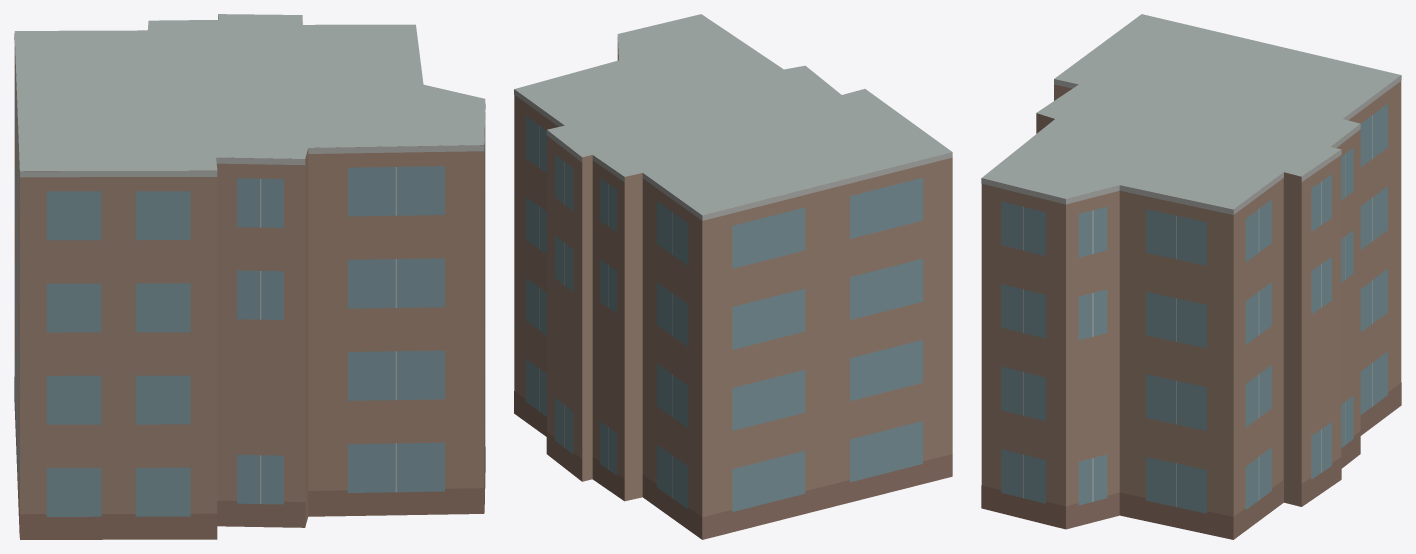
Rendered from survey-upis-32494440.glb.
3 renders of one model, left to right at view 1: azimuth 30°, elevation 25°; view 2: azimuth 150°, elevation 25°; view 3: azimuth 270°, elevation 25°, orthographic. The views are drawn at different scales.
Visible parts, largest first — view 1: survey-upis-32494440.tmp; view 2: survey-upis-32494440.tmp; view 3: survey-upis-32494440.tmp.
Part boxes in pixels (x1,y1,x2,y2): survey-upis-32494440.tmp: (14,14,485,539); survey-upis-32494440.tmp: (514,14,952,539); survey-upis-32494440.tmp: (981,14,1401,539).
Bounding box in the file's own units: 18.59 × 14.64 × 16.88.
